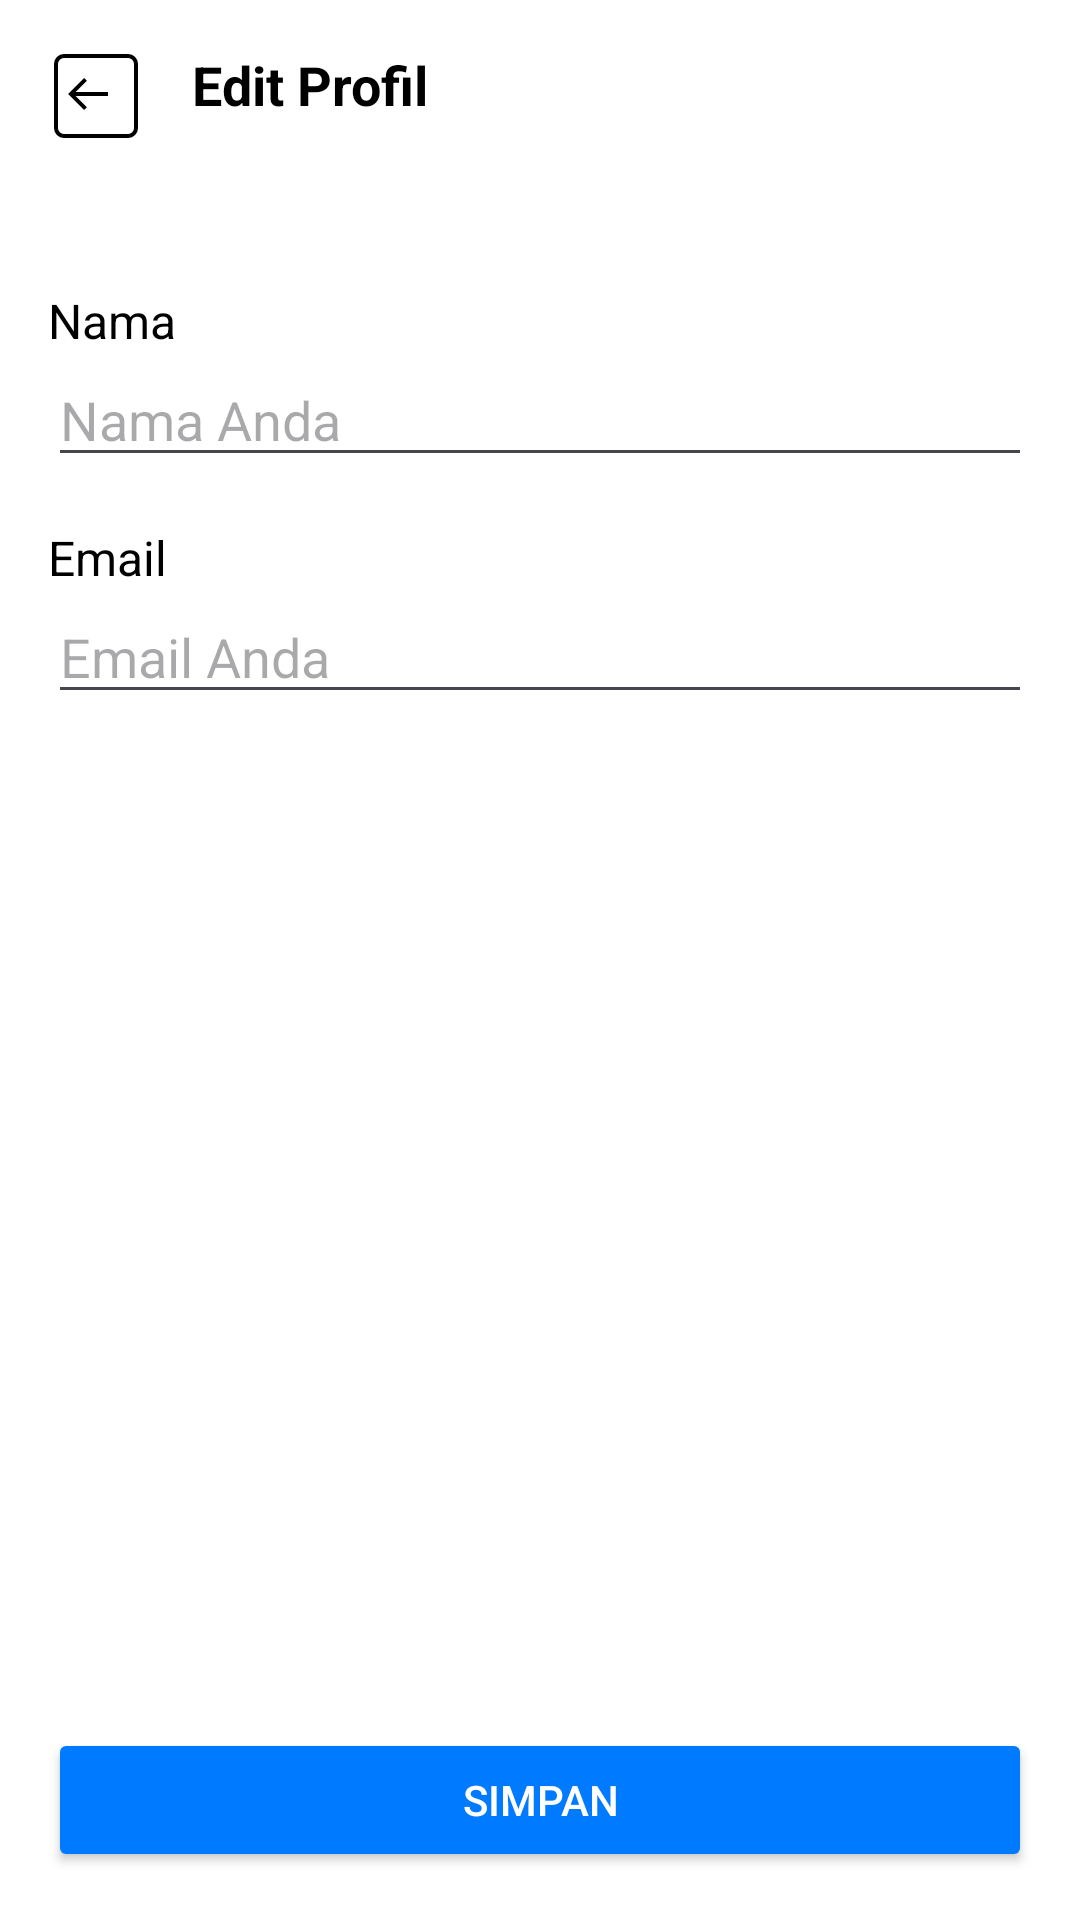

Point at icon controls on the screen. Image size 1080 x 1920, points as point (x, y).
Back Button: point (96, 96)
